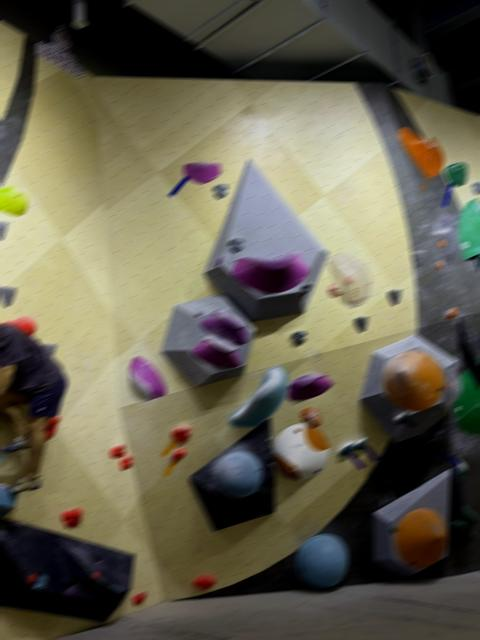crimp: (445, 307, 458, 318), (436, 261, 444, 269)
downhold: (0, 286, 17, 306), (387, 290, 402, 305), (213, 183, 228, 198), (228, 238, 244, 252), (412, 251, 425, 268), (353, 317, 368, 331), (291, 330, 305, 344), (299, 282, 313, 296), (42, 344, 57, 356)
jib: (34, 574, 47, 589), (66, 584, 77, 595), (28, 574, 37, 582), (215, 256, 223, 265), (95, 561, 104, 568), (92, 572, 100, 579), (195, 312, 202, 316)
jug: (0, 187, 28, 215), (60, 508, 82, 528), (172, 424, 192, 441), (193, 574, 215, 589), (110, 442, 125, 458), (338, 441, 354, 455), (171, 447, 186, 461), (133, 591, 147, 604), (352, 437, 367, 449), (120, 454, 132, 468), (394, 411, 405, 423)
ledge: (228, 366, 288, 427), (232, 252, 309, 293), (200, 309, 247, 344), (191, 338, 240, 368), (286, 372, 332, 399), (183, 163, 221, 183)
sidepull: (327, 253, 372, 306), (433, 213, 459, 264)
sloper: (383, 350, 444, 411), (272, 422, 329, 479), (395, 509, 447, 568), (295, 534, 348, 586), (216, 451, 262, 497), (3, 316, 37, 335)
tape: (168, 176, 189, 196), (439, 450, 460, 464), (348, 452, 365, 469), (161, 440, 177, 456), (442, 182, 452, 207), (364, 446, 379, 461), (163, 461, 177, 476), (401, 413, 417, 426), (420, 175, 428, 193)
undercling: (129, 356, 165, 399), (300, 407, 322, 426)
volume: (203, 159, 328, 319), (0, 518, 134, 621), (360, 334, 456, 442), (189, 419, 276, 529), (161, 295, 255, 386), (373, 471, 450, 576)
